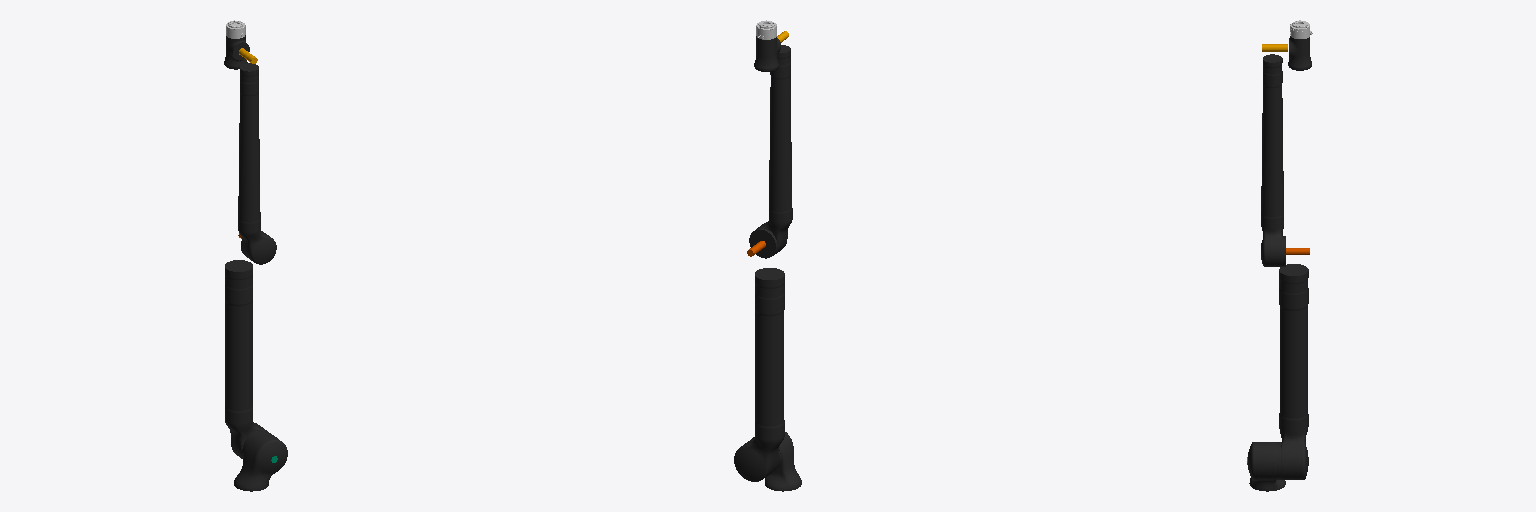
URDF robot description (kr2_robot_a1805):
<?xml version="1.0" ?>
<!-- =================================================================================== -->
<!-- |    This document was autogenerated by xacro from src/kr2_robot_S00V0003M1805.xacro | -->
<!-- |    EDITING THIS FILE BY HAND IS NOT RECOMMENDED                                 | -->
<!-- =================================================================================== -->
<robot features="TIO" mechanical-revision="0" model="a1805" model-revision="250731-0" name="kr2_robot_a1805">
  <ruid>0</ruid>
  <!-- links -->
  <link name="base">
    <inertial>
      <origin rpy="0 0 0" xyz="0 0 0.1365"/>
      <mass value="8.2"/>
      <inertia ixx="0.003" ixy="0.0" ixz="0.0" iyy="0.003" iyz="0.0" izz="0.003"/>
    </inertial>
    <visual>
      <origin rpy="0 0 0" xyz="0 0 0.035"/>
      <geometry>
        <mesh filename="package://ros2_description/meshes/a1805/a1805_BaseEdge.stl" scale="0.001 0.001 0.001"/>
      </geometry>
      <material name="">
        <color rgba="0.2 0.2 0.2 1"/>
      </material>
    </visual>
  </link>
  <link name="link1">
    <inertial>
      <origin rpy="1.5707963267948966 0 0" xyz="0.062 0 0.35619999999999996"/>
      <mass value="10.2"/>
      <inertia ixx="0.003" ixy="0.0" ixz="0.0" iyy="0.003" iyz="0.0" izz="0.003"/>
    </inertial>
    <visual>
      <origin rpy="0 0 0" xyz="0.062 0 0.357"/>
      <geometry>
        <mesh filename="package://ros2_description/meshes/a1805/a1805_Link2.stl" scale="0.001 0.001 0.001"/>
      </geometry>
      <material name="">
        <color rgba="0.2 0.2 0.2 1"/>
      </material>
    </visual>
  </link>
  <link name="linkJ2">
    <visual>
      <origin rpy="1.5707963267948966 0 0" xyz="0 -0.006 0"/>
      <geometry>
        <cylinder length="0.15" radius="0.015"/>
      </geometry>
      <material name="orange"/>
    </visual>
    <inertial>
      <origin rpy="0 0 0" xyz="-0.062 0.1052 0.39430000000000004"/>
      <mass value="2.2"/>
      <inertia ixx="0.003" ixy="0.0" ixz="0.0" iyy="0.003" iyz="0.0" izz="0.003"/>
    </inertial>
  </link>
  <link name="link2">
    <inertial>
      <origin rpy="0 0 0" xyz="0 0 0.73961"/>
      <mass value="4.7"/>
      <inertia ixx="0.003" ixy="0.0" ixz="0.0" iyy="0.003" iyz="0.0" izz="0.003"/>
    </inertial>
    <visual>
      <origin rpy="0 0 0" xyz="0 0.00 0.17"/>
      <geometry>
        <mesh filename="package://ros2_description/meshes/a1805/a1805_Link3.stl" scale="0.001 0.001 0.001"/>
      </geometry>
      <material name="">
        <color rgba="0.2 0.2 0.2 1"/>
      </material>
    </visual>
  </link>
  <link name="link3">
    <inertial>
      <origin rpy="-1.5707963267948966 0 0" xyz="0.05 0 0.18289"/>
      <mass value="5.78"/>
      <inertia ixx="0.003" ixy="0.0" ixz="0.0" iyy="0.003" iyz="0.0" izz="0.003"/>
    </inertial>
    <visual>
      <origin rpy="0 0 0" xyz="0.05 0 0.1829"/>
      <geometry>
        <mesh filename="package://ros2_description/meshes/a1805/a1805_Link4.stl" scale="0.001 0.001 0.001"/>
      </geometry>
      <material name="">
        <color rgba="0.2 0.2 0.2 1"/>
      </material>
    </visual>
  </link>
  <link name="linkJ4">
    <visual>
      <origin rpy="1.5707963267948966 0 0" xyz="0 0.005 0"/>
      <geometry>
        <cylinder length="0.12" radius="0.015"/>
      </geometry>
      <material name="orange"/>
    </visual>
    <inertial>
      <origin rpy="0 0 0" xyz="-0.05 -0.0857 0.3737"/>
      <mass value="2.0"/>
      <inertia ixx="0.003" ixy="0.0" ixz="0.0" iyy="0.003" iyz="0.0" izz="0.003"/>
    </inertial>
  </link>
  <link name="link4">
    <inertial>
      <origin rpy="0 0 0" xyz="0 0 0.7776000000000001"/>
      <mass value="1.5"/>
      <inertia ixx="0.003" ixy="0.0" ixz="0.0" iyy="0.003" iyz="0.0" izz="0.003"/>
    </inertial>
    <visual>
      <origin rpy="3.1415926535 1.570796326795 0" xyz="0.126 0.0535 0.831"/>
      <geometry>
        <mesh filename="package://ros2_description/meshes/a1805/a1805_Link5.stl" scale="0.001 0.001 0.001"/>
      </geometry>
      <material name="">
        <color rgba="0.2 0.2 0.2 1"/>
      </material>
    </visual>
  </link>
  <link name="link5">
    <inertial>
      <origin rpy="1.5707963267948966 0 0" xyz="0 0 0.0999"/>
      <mass value="1.7"/>
      <inertia ixx="0.003" ixy="0.0" ixz="0.0" iyy="0.003" iyz="0.0" izz="0.003"/>
    </inertial>
    <visual>
      <origin rpy="0 0 0" xyz="0 0.002 0.1"/>
      <geometry>
        <mesh filename="package://ros2_description/meshes/a1805/a1805_Link6.stl" scale="0.001 0.001 0.001"/>
      </geometry>
      <material name="">
        <color rgba="0.2 0.2 0.2 1"/>
      </material>
    </visual>
  </link>
  <link name="linkJ6">
    <visual>
      <origin rpy="1.5707963267948966 0 0" xyz="0 0.01 0"/>
      <geometry>
        <cylinder length="0.105" radius="0.015"/>
      </geometry>
      <material name="orange"/>
    </visual>
    <inertial>
      <origin rpy="0 0 0" xyz="0 0 0"/>
      <mass value="0.0"/>
      <inertia ixx="0.003" ixy="0.0" ixz="0.0" iyy="0.003" iyz="0.0" izz="0.003"/>
    </inertial>
  </link>
  <link name="link6">
    <inertial>
      <origin rpy="0 0 0" xyz="0 0 0"/>
      <mass value="1.76"/>
      <inertia ixx="0.003" ixy="0.0" ixz="0.0" iyy="0.003" iyz="0.0" izz="0.003"/>
    </inertial>
    <visual>
      <origin rpy="0 0 0" xyz="0 0 0.002"/>
      <geometry>
        <mesh filename="package://ros2_description/meshes/a1805/a1805_Link7.stl" scale="0.001 0.001 0.001"/>
      </geometry>
      <material name="">
        <color rgba="0.2 0.2 0.2 1"/>
      </material>
    </visual>
  </link>
  <link name="end_effector">
    <visual>
      <origin rpy="0 0 0" xyz="0 0 -0.1051"/>
      <geometry>
        <mesh filename="package://ros2_description/meshes/a1805/a1805_ToolIO.stl" scale="0.001 0.001 0.001"/>
      </geometry>
      <material name="">
        <color rgba="0.8 0.8 0.8 1"/>
      </material>
    </visual>
    <inertial>
      <origin rpy="0 0 0" xyz="0 0 -0.021"/>
      <mass value="0.33"/>
      <inertia ixx="0.003" ixy="0.0" ixz="0.0" iyy="0.003" iyz="0.0" izz="0.003"/>
    </inertial>
  </link>
  <!-- joints -->
  <joint name="joint0" type="continuous">
    <parent link="base"/>
    <child link="link1"/>
    <origin rpy="0.0 -0.0 0.0" xyz="0 0 0.035"/>
    <axis xyz="0 0 1"/>
    <dynamics damping="1.0"/>
    <limit effort="500" lower="-6.283185307179586" upper="6.283185307179586" velocity="2.8361600344907854"/>
  </joint>
  <joint name="joint1" type="continuous">
    <parent link="link1"/>
    <child link="linkJ2"/>
    <origin rpy="0.0 0.0 0.0" xyz="0.062 0.0 0.3562"/>
    <axis xyz="0 1 0"/>
    <dynamics damping="1.0"/>
    <limit effort="500" lower="-1.2217304763960306" upper="3.141592653589793" velocity="2.8361600344907854"/>
  </joint>
  <joint name="jointPL2" type="fixed">
    <parent link="linkJ2"/>
    <child link="link2"/>
    <origin rpy="0.0 -0.0 0.0" xyz="-0.062 0.1052 0"/>
  </joint>
  <joint name="joint2" type="continuous">
    <parent link="link2"/>
    <child link="link3"/>
    <origin rpy="0 0 0" xyz="0 0 0.73961"/>
    <axis xyz="0 0 1"/>
    <dynamics damping="1.0"/>
    <limit effort="204" lower="-6.283185307179586" upper="6.283185307179586" velocity="3.9269908169872414"/>
  </joint>
  <joint name="joint3" type="continuous">
    <parent link="link3"/>
    <child link="linkJ4"/>
    <origin rpy="0.0 0.0 0.0" xyz="0.05 0.0 0.18289"/>
    <axis xyz="0 1 0"/>
    <dynamics damping="1.0"/>
    <limit effort="204" lower="-1.2217304763960306" upper="3.141592653589793" velocity="3.9269908169872414"/>
  </joint>
  <joint name="jointPL4" type="fixed">
    <parent link="linkJ4"/>
    <child link="link4"/>
    <origin rpy="0.0 -0.0 0.0" xyz="-0.05 -0.0857 0.0"/>
  </joint>
  <joint name="joint4" type="continuous">
    <parent link="link4"/>
    <child link="link5"/>
    <origin rpy="0 0 0" xyz="0 0 0.7776"/>
    <axis xyz="0 0 1"/>
    <dynamics damping="1.0"/>
    <limit effort="80" lower="-6.283185307179586" upper="6.283185307179586" velocity="3.9269908169872414"/>
  </joint>
  <joint name="joint5" type="continuous">
    <parent link="link5"/>
    <child link="linkJ6"/>
    <origin rpy="0.0 0.0 0.0" xyz="0.0 0 0.0999"/>
    <axis xyz="0 1 0"/>
    <dynamics damping="1.0"/>
    <limit effort="80" lower="-6.283185307179586" upper="6.283185307179586" velocity="3.9269908169872414"/>
  </joint>
  <joint name="jointPL6" type="fixed">
    <parent link="linkJ6"/>
    <child link="link6"/>
    <origin rpy="0.0 0.0 0.0" xyz="0.0 0.111 0"/>
  </joint>
  <joint name="joint6" type="continuous">
    <parent link="link6"/>
    <child link="end_effector"/>
    <origin rpy="0 0 0" xyz="0 0 0.108"/>
    <axis xyz="0 0 1"/>
    <dynamics damping="1.0"/>
    <limit effort="80" lower="-6.283185307179586" upper="6.283185307179586" velocity="3.9269908169872414"/>
  </joint>
</robot>

--- Render facts (derived) ---
3 views of the same robot in one strip: view 1: azimuth 30°, elevation 25°; view 2: azimuth 150°, elevation 25°; view 3: azimuth 270°, elevation 25° (orthographic).
Robot: kr2_robot_a1805 — 11 links, 10 joints (7 continuous, 3 fixed); root link base; default pose: all joints at 0.
Links seen in each view (by area): view 1: link2, link4, link1, link6; view 2: link2, link4, link1, link6; view 3: link2, link4, link1, link6.
Boxes of the visible links, x1,y1,x2,y2 form: link2: (225,260,268,458); link4: (238,63,276,264); link1: (234,432,287,491); link6: (224,35,249,69); link2: (734,268,784,481); link4: (749,45,792,258); link1: (752,432,801,491); link6: (754,36,780,71); link2: (1278,264,1308,479); link4: (1261,54,1285,266); link1: (1248,442,1285,491); link6: (1288,36,1311,70).
Bounding box of the posed robot: 0.2125 × 0.261 × 2.04 m (x, y, z).
Meshes: 8 distinct files referenced, 5 mesh visuals loaded (5 binary STL); not drawn: 3 (reference not matched to a file when rendering).
